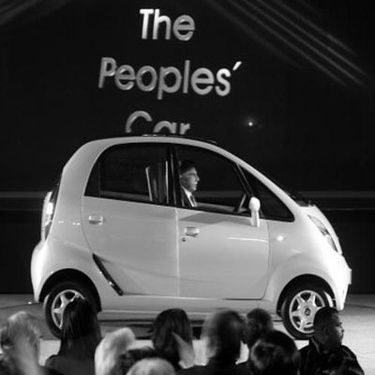car: (27, 135, 357, 322)
